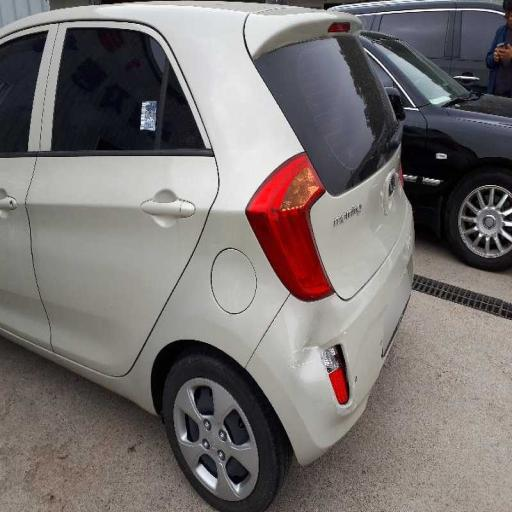dent: (269, 280, 378, 428)
